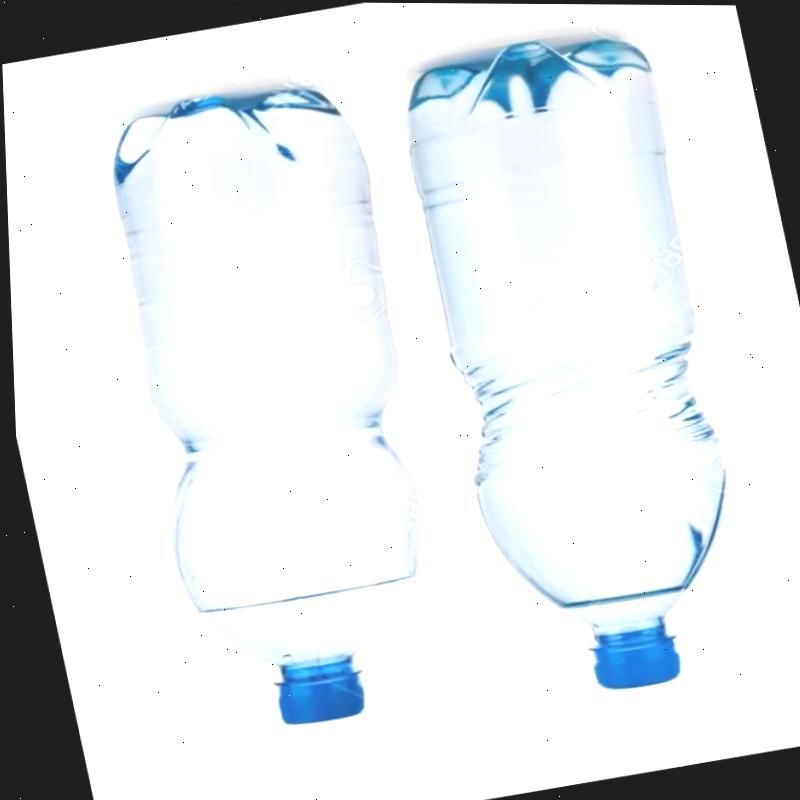botella: (383, 18, 773, 707), (75, 71, 475, 742)
